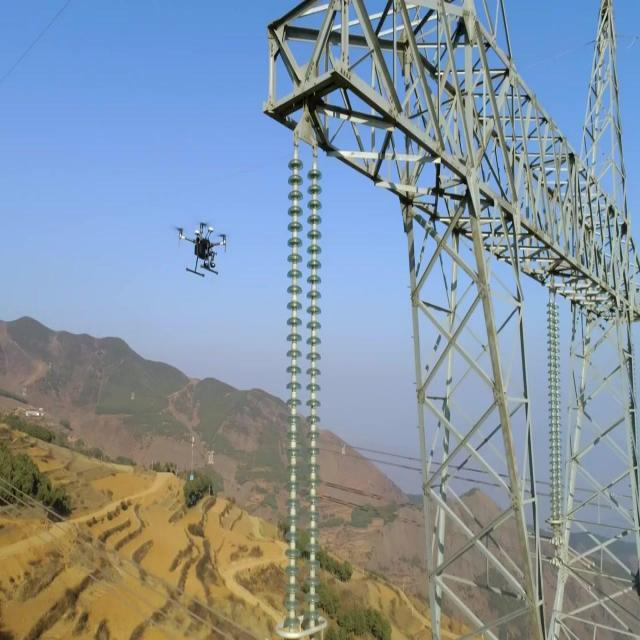UAV: (175, 222, 229, 278)
